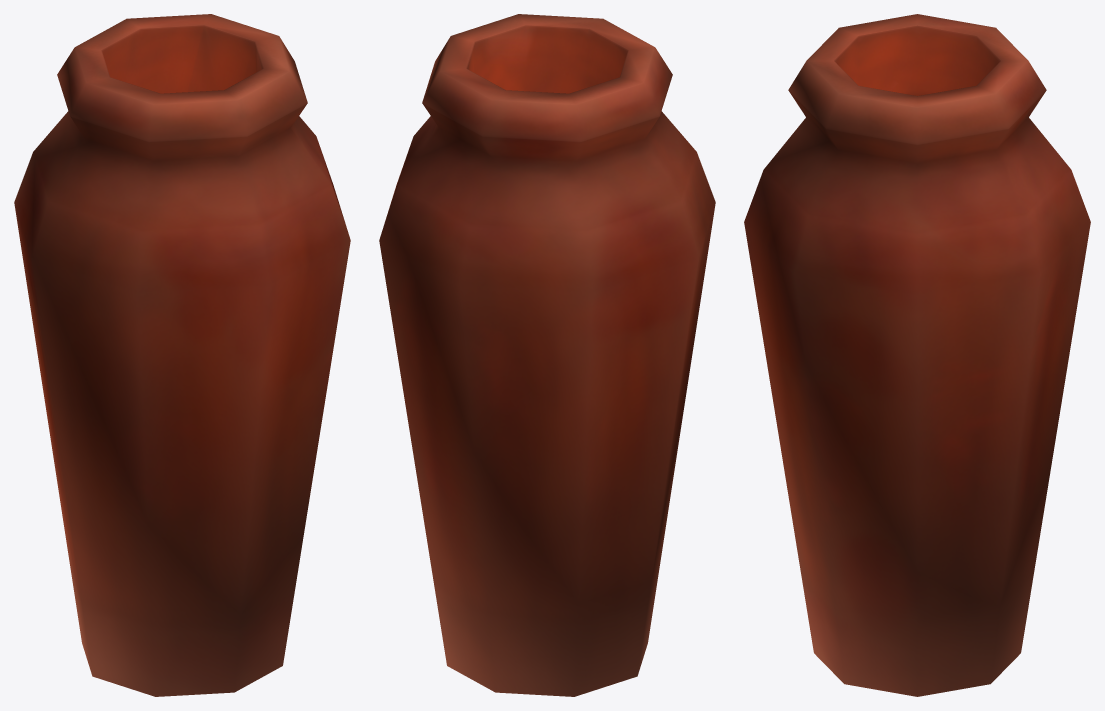
File: dc1_pot.glb
3 views of the same model, side by side, from view 1: azimuth 30°, elevation 25°; view 2: azimuth 150°, elevation 25°; view 3: azimuth 270°, elevation 25° (orthographic).
Parts seen in each view (by area): view 1: pot; view 2: pot; view 3: pot.
Boxes of the visible parts, <box> form: pot: <box>14,14,350,696</box>; pot: <box>379,14,715,696</box>; pot: <box>744,14,1090,696</box>.
Bounding box in the file's own units: 0.5777 × 1.09 × 0.5777.
Materials: 1 (1 with a texture image).
